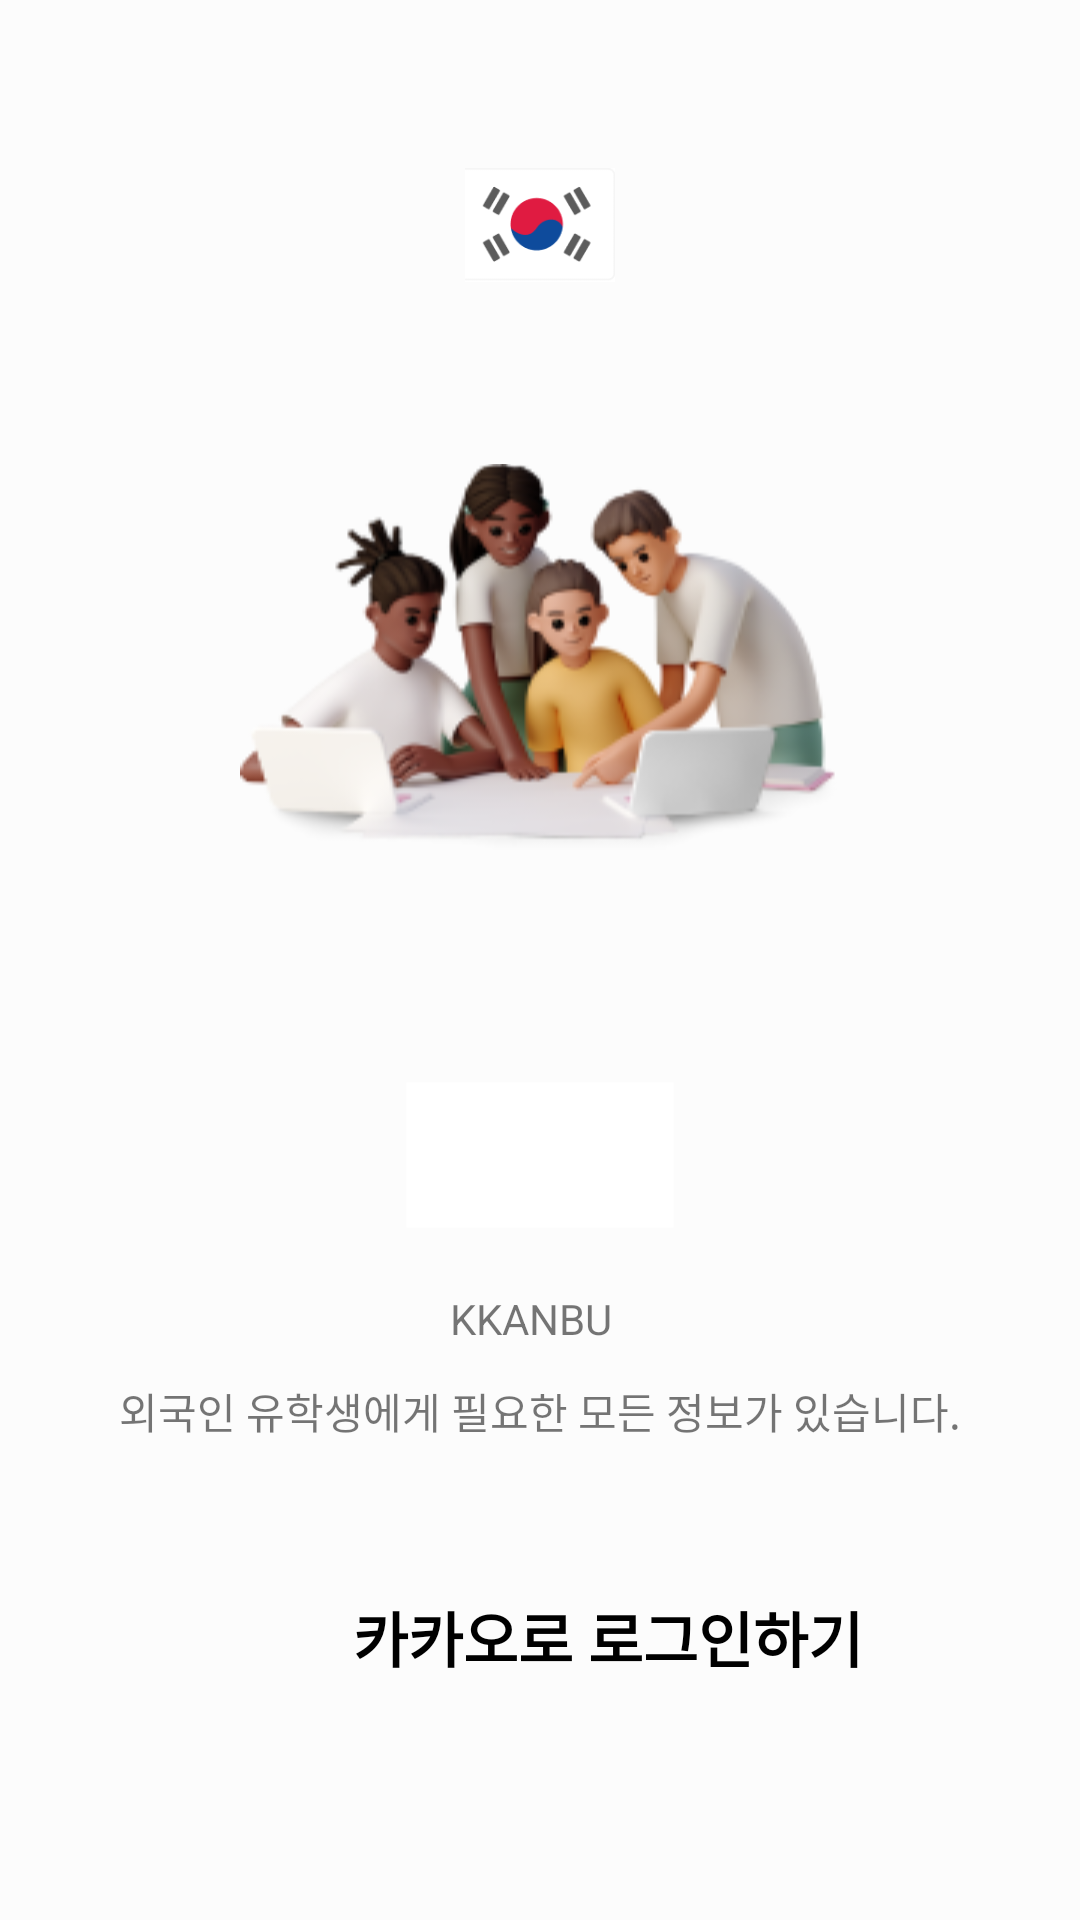

Named icons in this screenshot (1080 x 1920) and their centers, (x,y):
koreaflag: (537,224)
